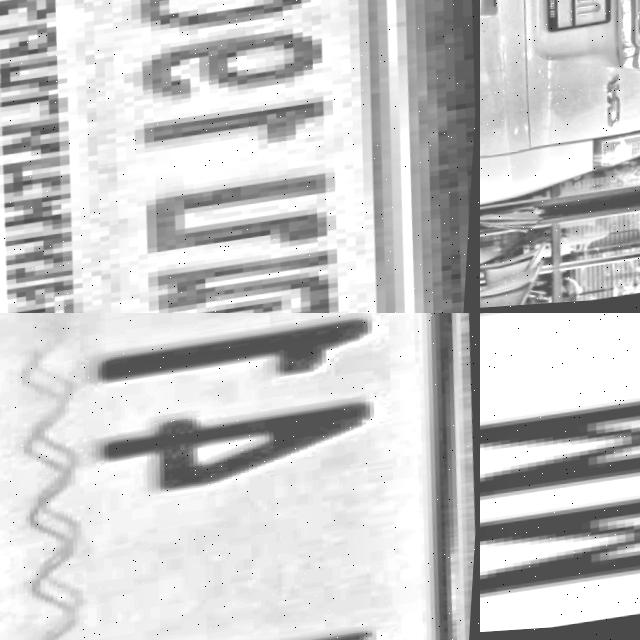license-plate: (0, 313, 480, 640), (0, 0, 458, 313), (480, 313, 640, 640), (541, 0, 624, 36)
